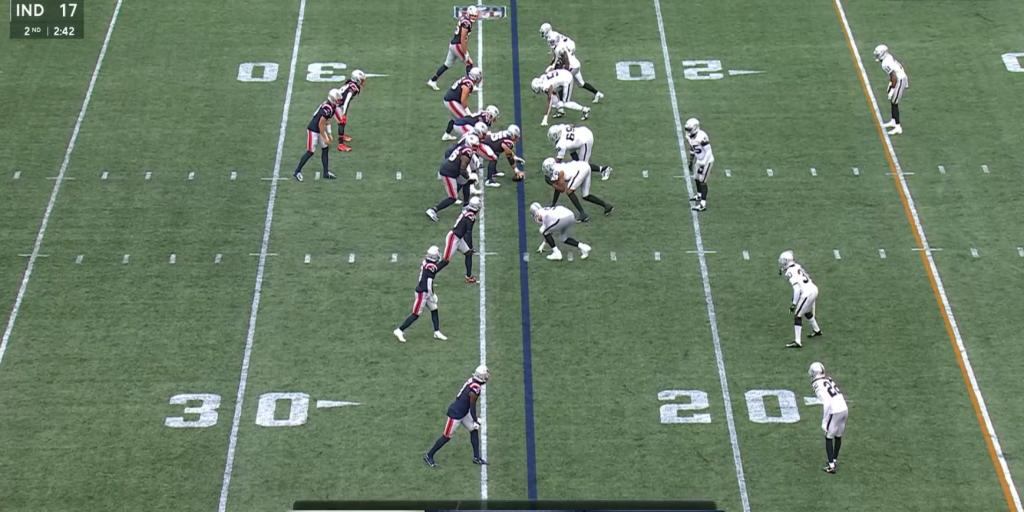player: (425, 366, 489, 466), (393, 246, 447, 342), (425, 134, 480, 221), (808, 362, 848, 472), (293, 90, 341, 180), (428, 6, 478, 89), (779, 251, 822, 347), (542, 157, 612, 214), (547, 32, 602, 102), (440, 197, 482, 282), (530, 202, 590, 260), (531, 69, 589, 125), (873, 45, 908, 134), (685, 118, 714, 210), (481, 125, 524, 186), (335, 69, 365, 151), (444, 67, 481, 119), (549, 124, 593, 162), (446, 105, 499, 134), (470, 121, 489, 137), (573, 201, 587, 221)
